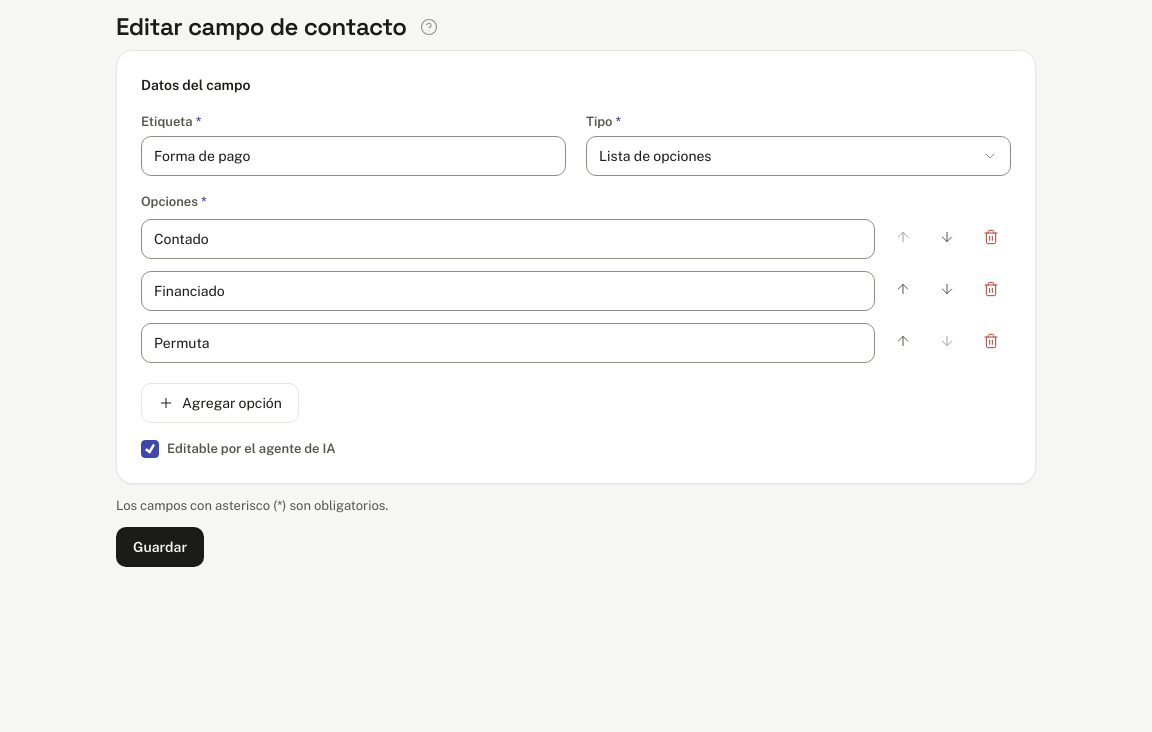
it: ContactCustomFieldFormPage: opciones que ya usan contactos › si no se puede verificar el uso, no se guarda a ciegas: avisa y deja reintentar
The width and height of the screenshot is (1152, 732).
Click the button named "Borrar la opción 1" at (991, 237), box [971, 217, 1011, 257]
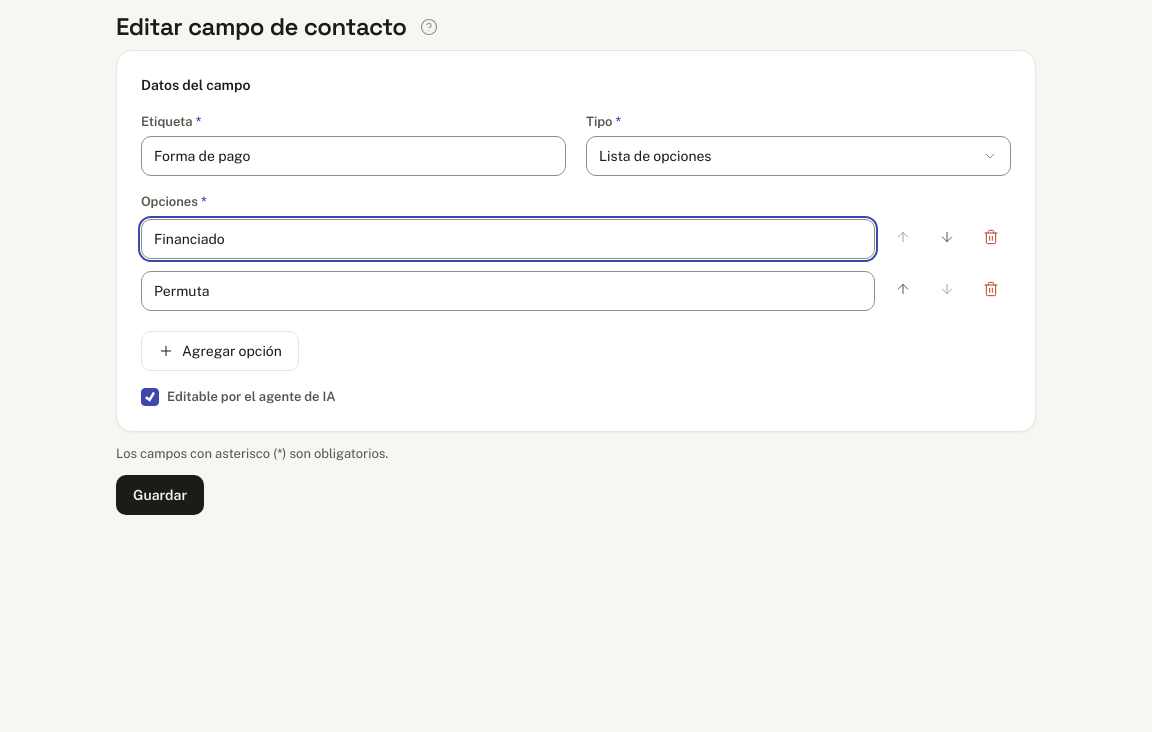
Click the button "Guardar" at (160, 495), box [116, 475, 204, 515]
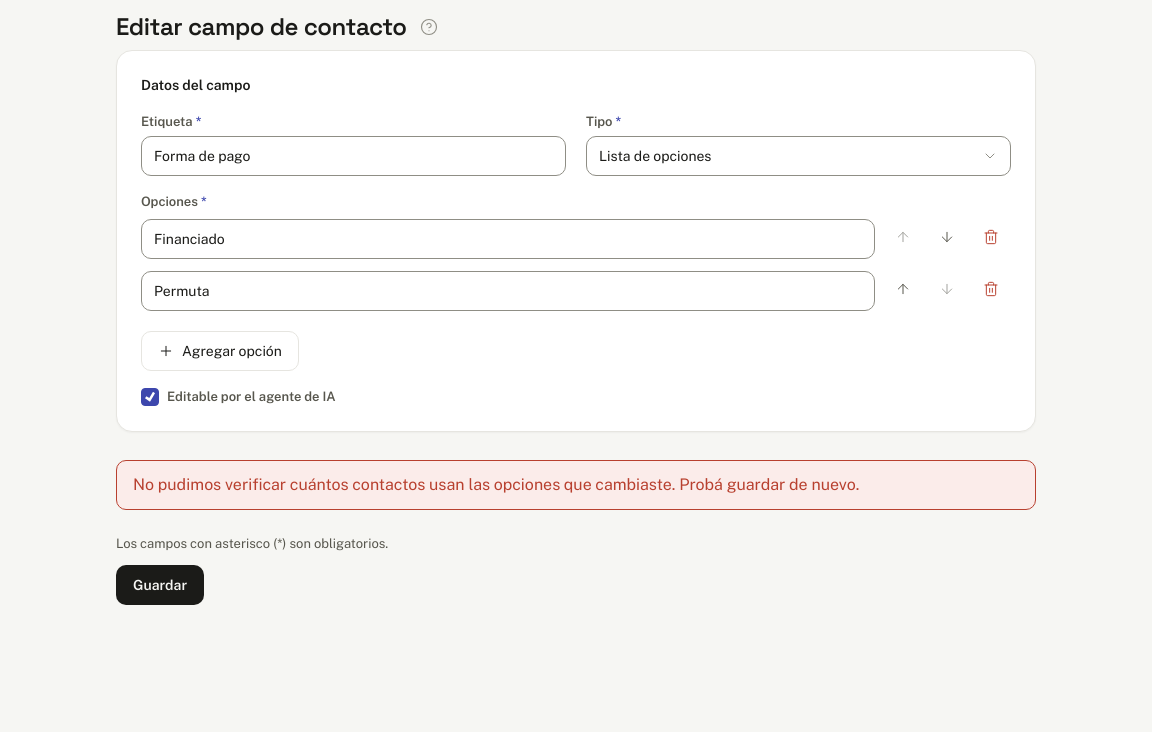
Expected: the button "Guardar" is enabled, [116, 565, 204, 605]
Result: the message shows "No pudimos verificar cuántos contactos usan las opciones que cambiaste" at [133, 474, 859, 494]
